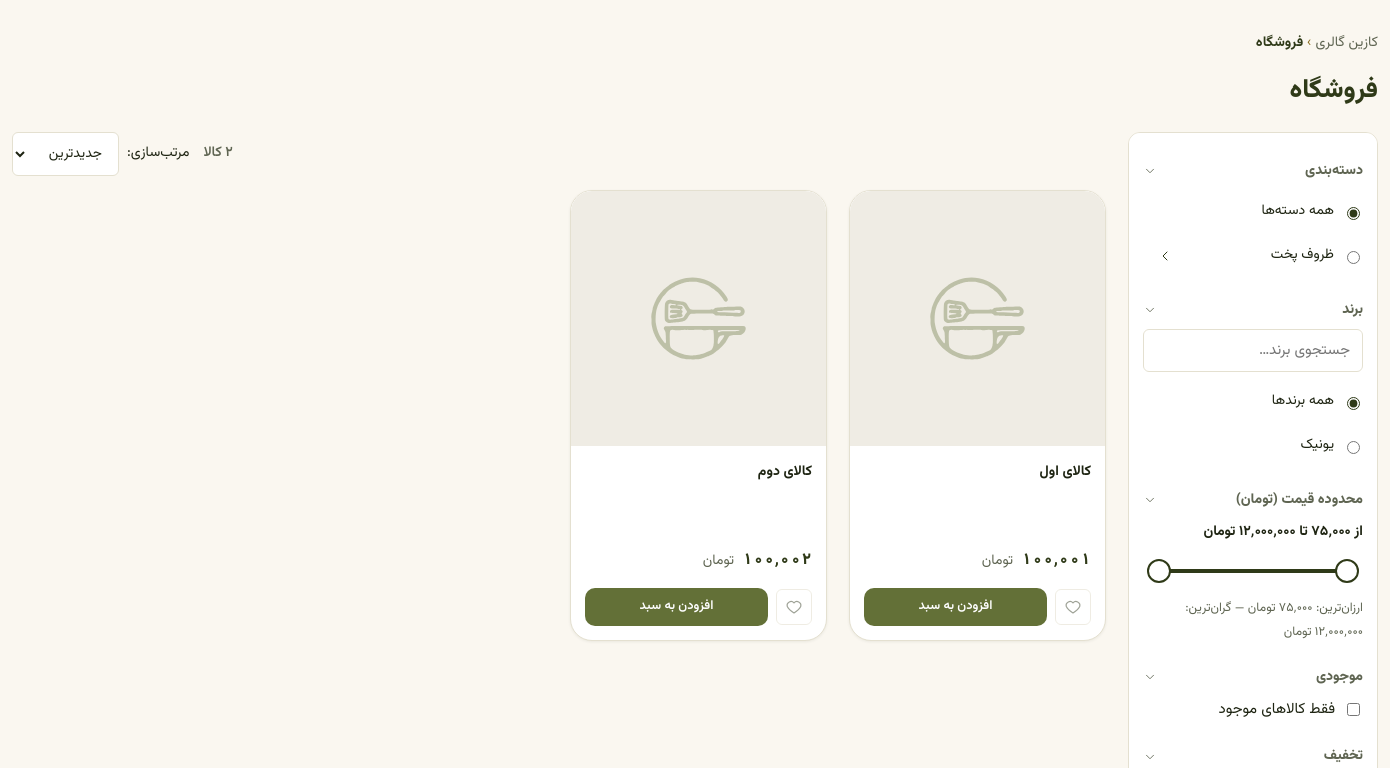
Test case: shop page filter transitions (Part S5 item 7) › collapses a filter group with grid-template-rows while keeping its inputs in the DOM
Expected: the link "کالای اول" is shown, [1040,461,1091,483]
Click the button "دسته‌بندی": {"x": 1253, "y": 171} [1143,161,1363,182]
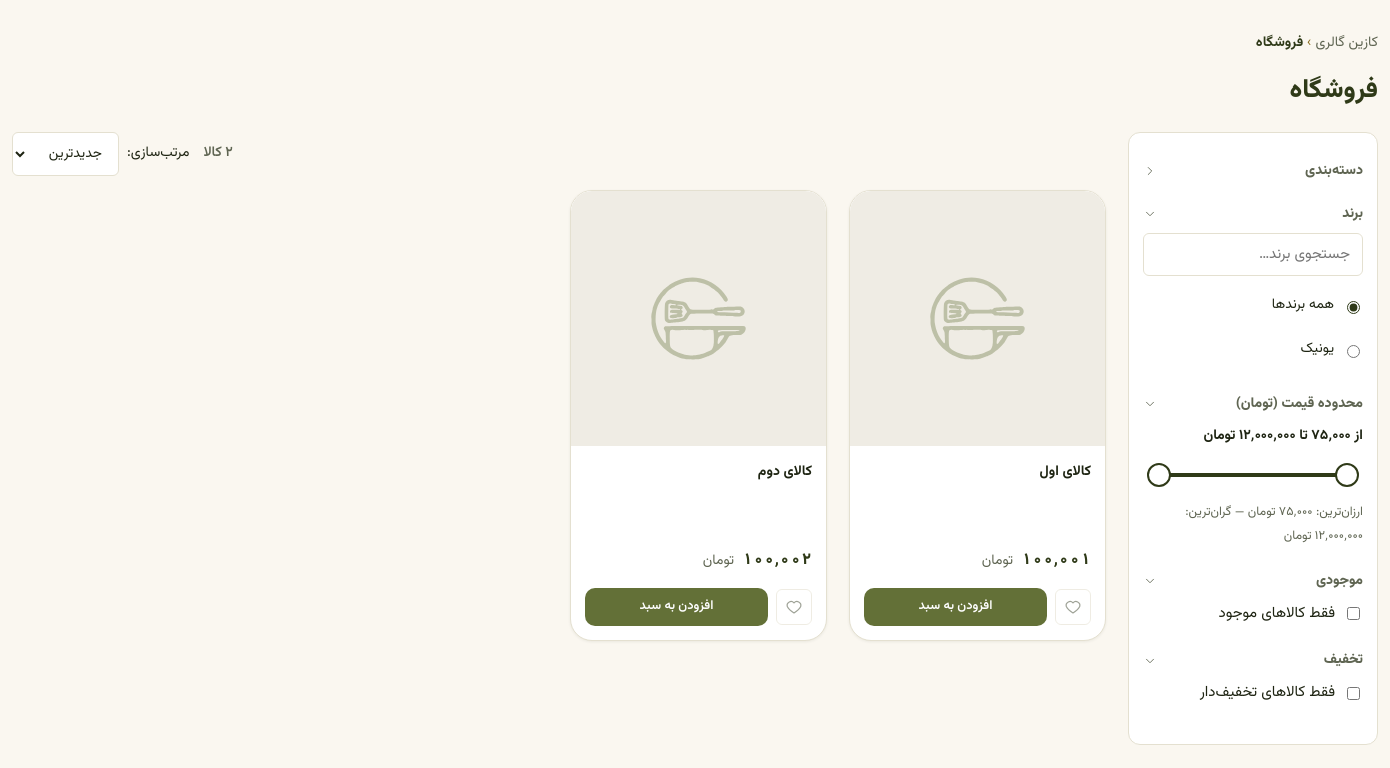
Expected: the button "دسته‌بندی" is collapsed
Click the button "دسته‌بندی": {"x": 1253, "y": 171} [1143,161,1363,182]
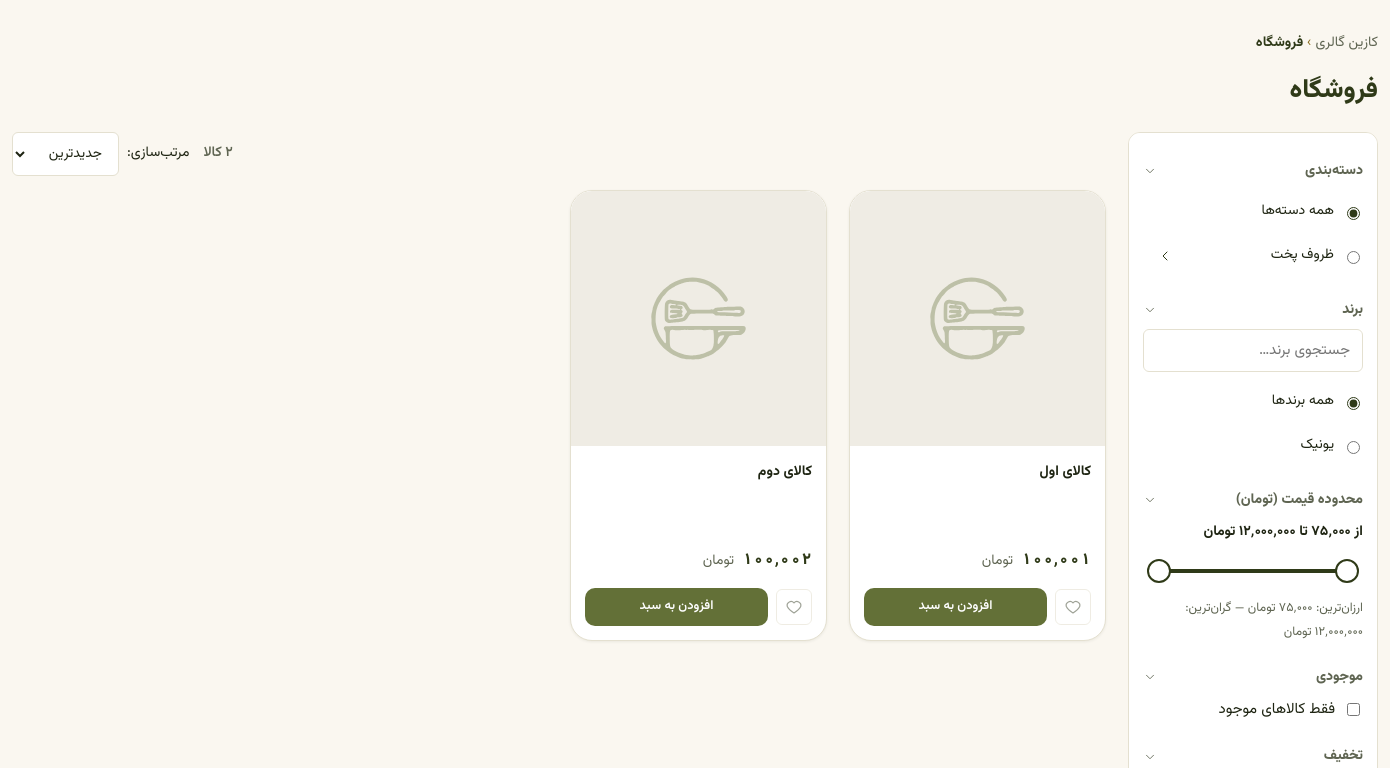
Expected: the button "دسته‌بندی" is expanded, [1143,161,1363,182]
